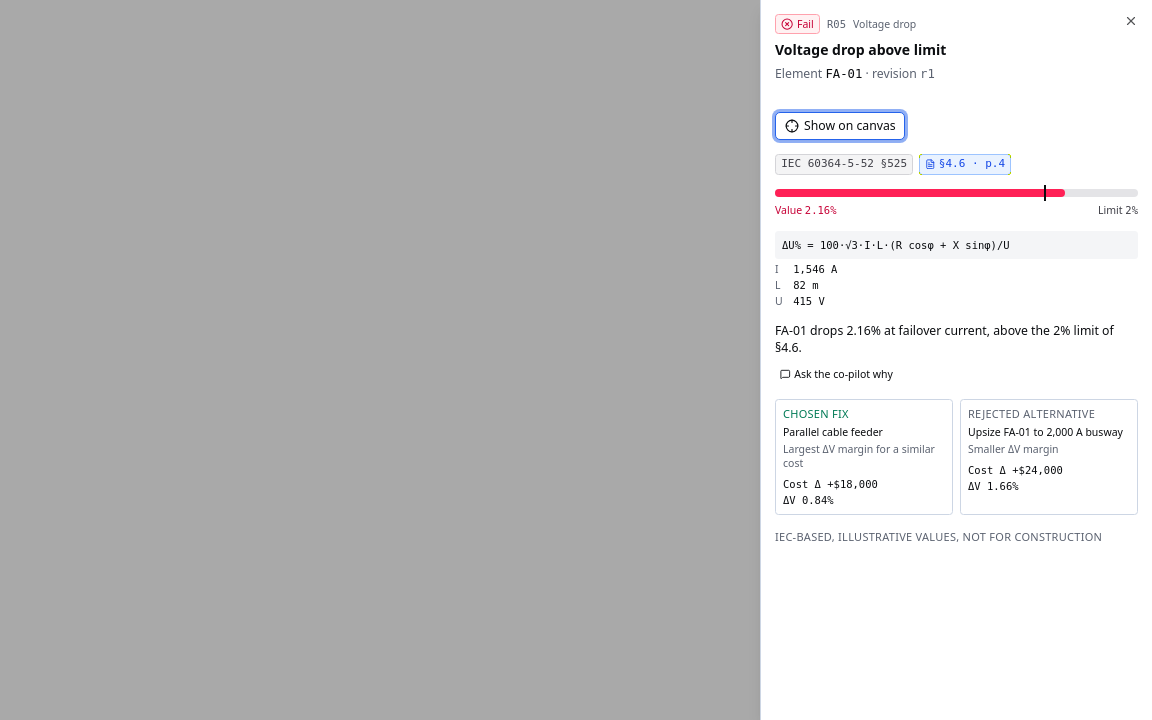
it: ask-why falls back to the engine explanation when the API is down
The width and height of the screenshot is (1152, 720).
Click the button "Ask the co-pilot why". click: (837, 374)
box: [775,364,898,385]
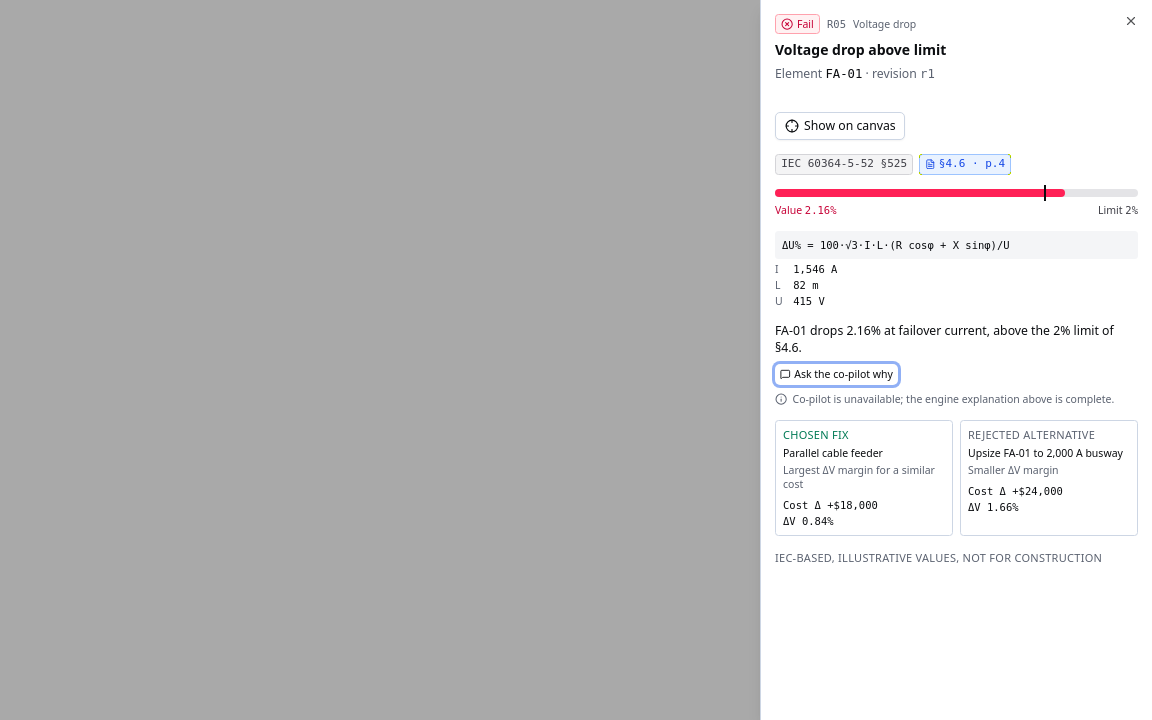
Expected: the message shows "Co-pilot is unavailable", [792,392,1114,406]
Expected: the 6th icon is shown, [775,393,787,405]
